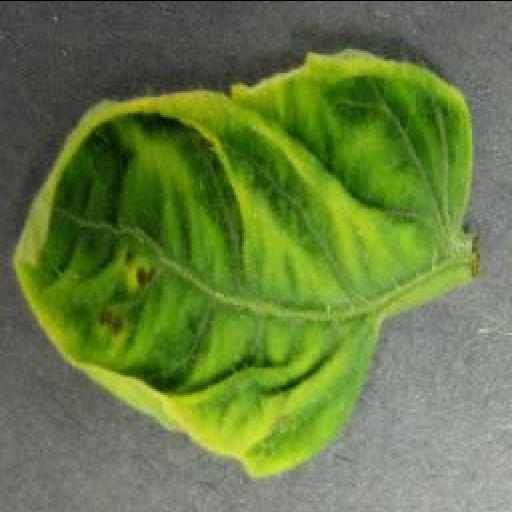disease_tomato: (8, 45, 476, 481)
